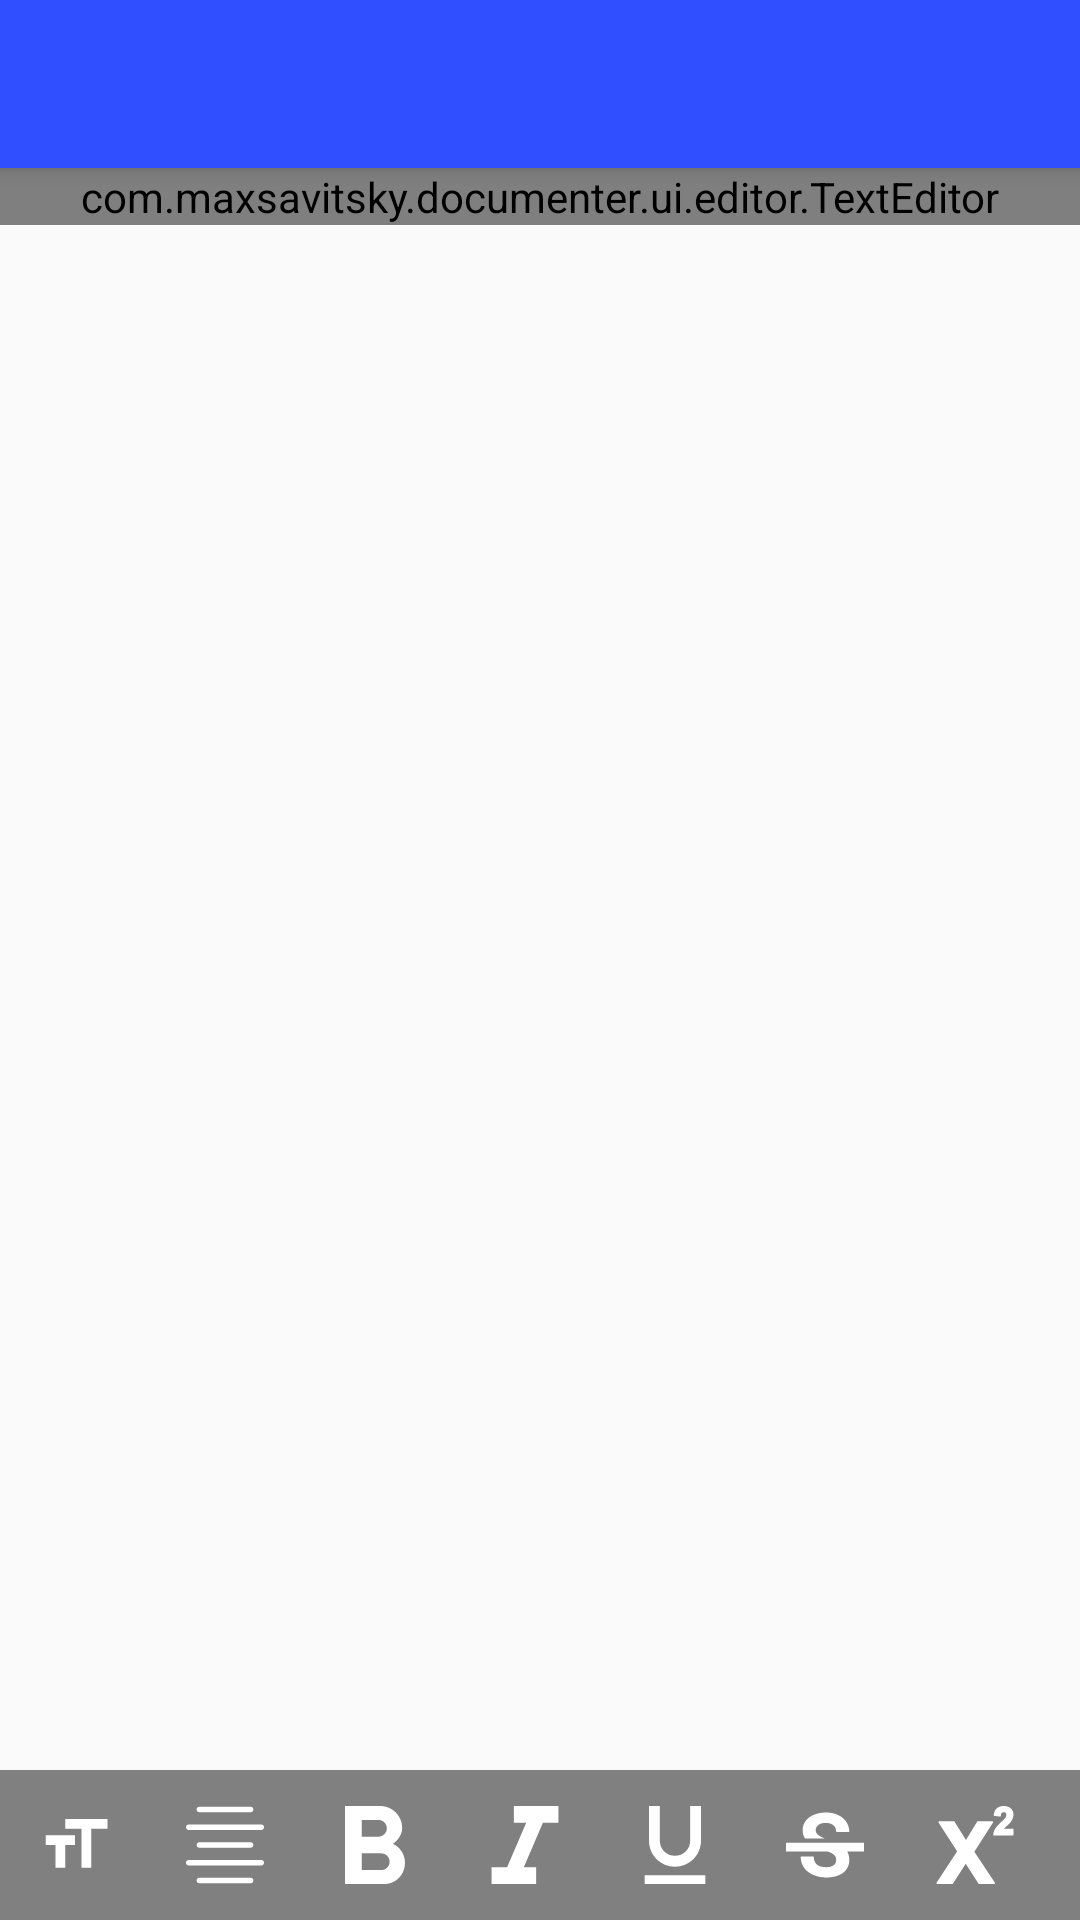

Where to tap for icons on this 1080×1920 app screen, as (x=x, y=y):
align center: (x=225, y=1845)
italic: (x=525, y=1845)
strikethrough: (x=825, y=1845)
superscript: (x=975, y=1845)
text size: (x=76, y=1843)
underline: (x=675, y=1845)
